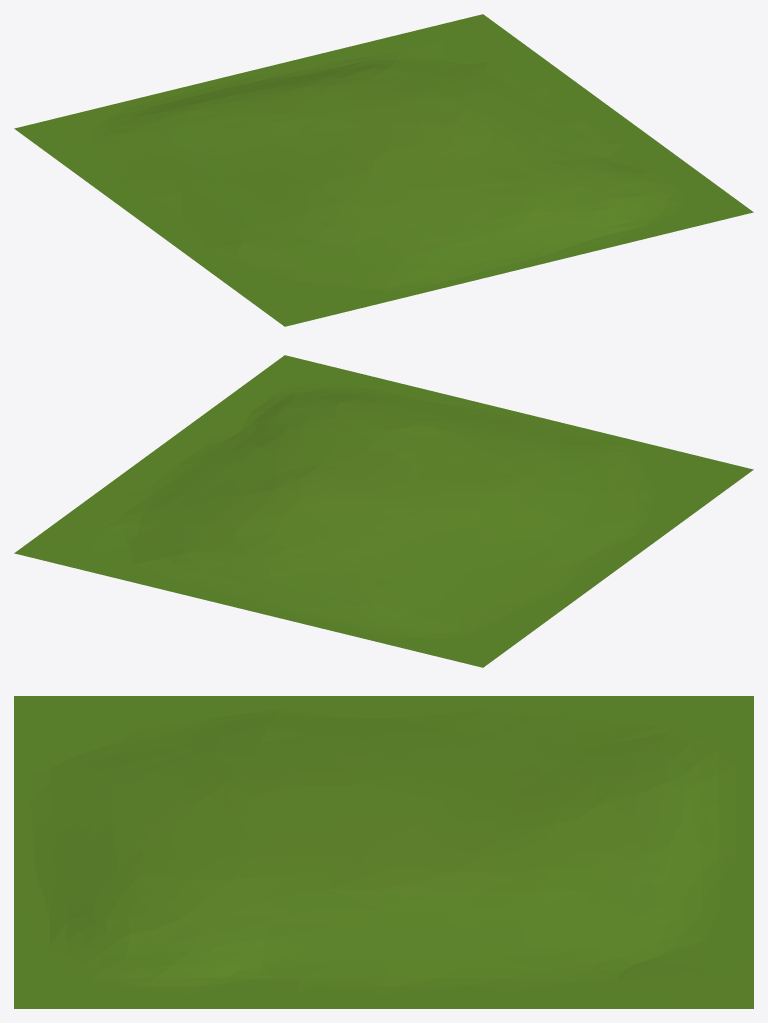
The model's file is Terrain_05.fbx.
3 renders of one model, top to bottom at view 1: azimuth 30°, elevation 25°; view 2: azimuth 150°, elevation 25°; view 3: azimuth 270°, elevation 25°, orthographic. The views are drawn at different scales.
Visible parts, largest first — view 1: Terrain_05; view 2: Terrain_05; view 3: Terrain_05.
Part boxes in pixels (x1,y1,x2,y2): Terrain_05: [14, 14, 753, 326]; Terrain_05: [14, 355, 753, 667]; Terrain_05: [14, 696, 753, 1008].
Size of the model in its own units: 12800 by 406 by 12800.
